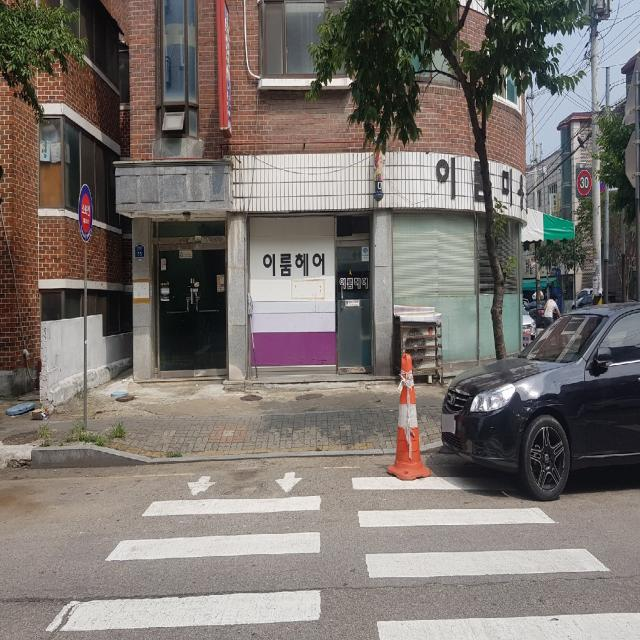횡단보도: (43, 466, 640, 640)
